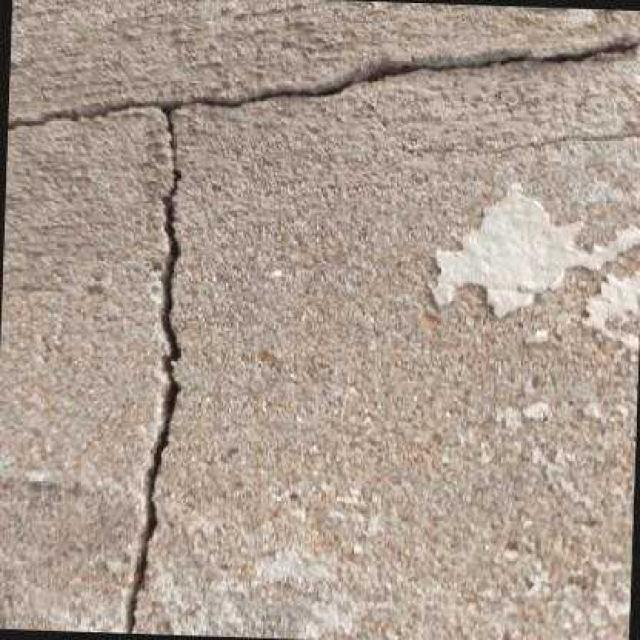D00: (6, 36, 640, 634)
